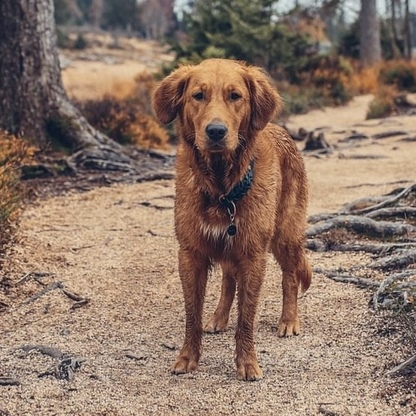labrado: (147, 53, 319, 386)
